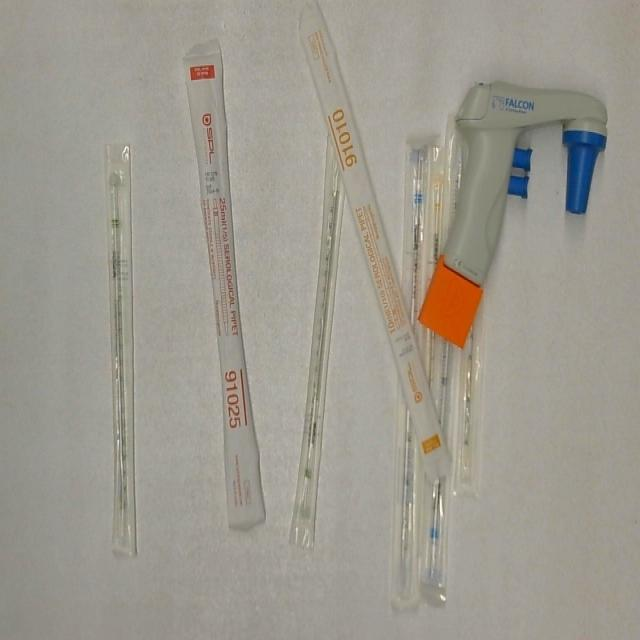Pipette Controller: (416, 81, 614, 348)
Serelogical Pipet 1 mL: (449, 288, 501, 494), (417, 144, 454, 396)
Serelogical Pipet 10 mL: (296, 0, 452, 478)
Serelogical Pipet 2 mL: (289, 123, 351, 551), (104, 139, 140, 563)
Serelogical Pipet 25 mL: (182, 35, 279, 534)
Serelogical Pipet 5 mL: (387, 126, 439, 613), (422, 346, 467, 607)
